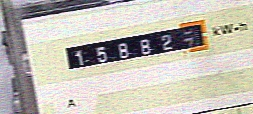1: (73, 49, 85, 68)
2: (159, 33, 173, 51)
5: (93, 46, 108, 64)
7: (182, 36, 195, 50)
8: (116, 41, 129, 60), (139, 38, 151, 55)
screen: (57, 16, 216, 76)
